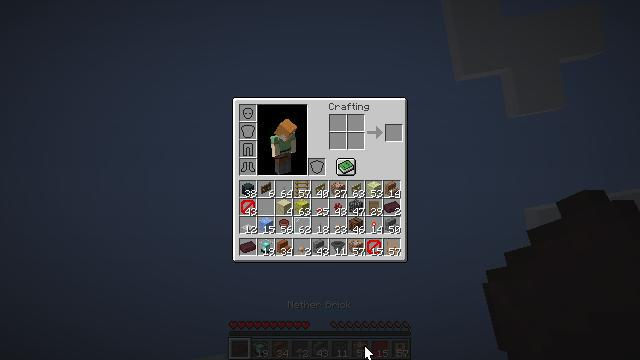cursor: (364, 345, 374, 360)
